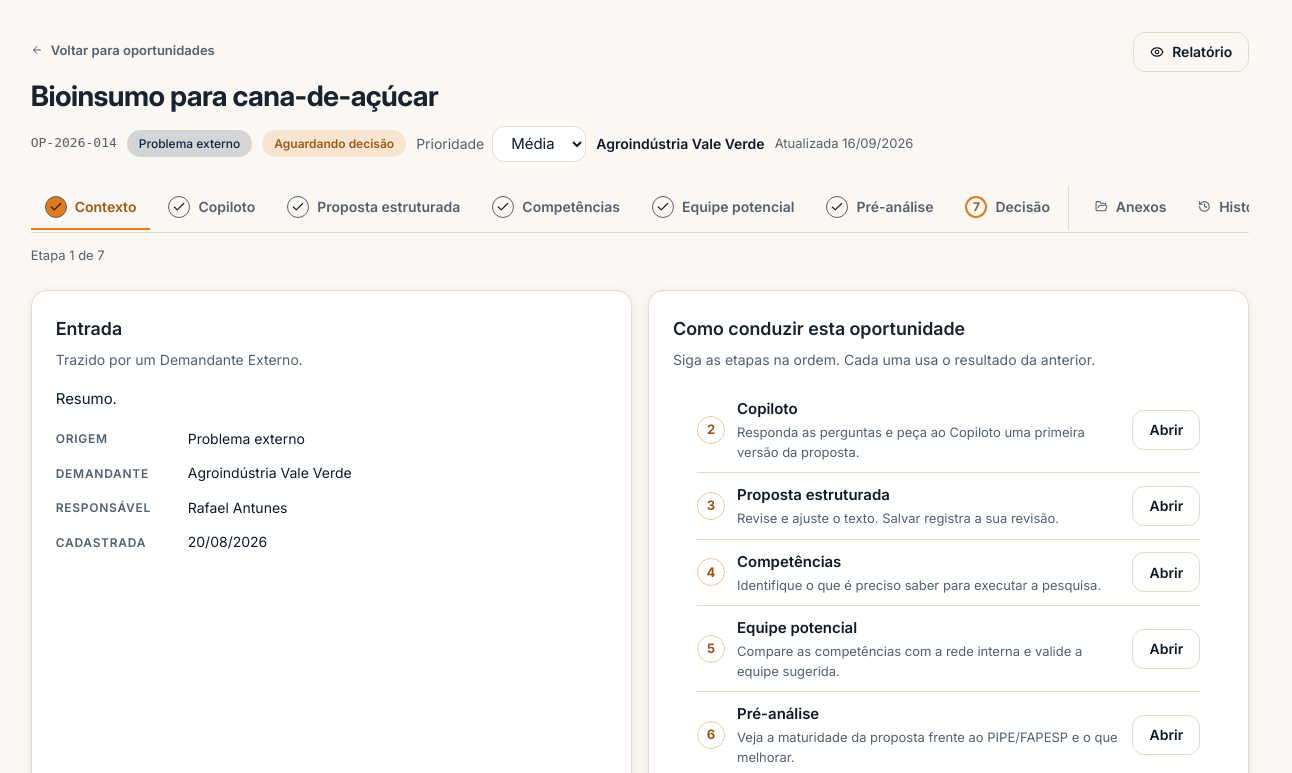
Scenario: OportunidadePage — rodada do Copiloto › trava a troca de etapa enquanto a IA trabalha
The image size is (1292, 773).
Click the button "Copiloto" at (212, 208), box [154, 186, 269, 230]
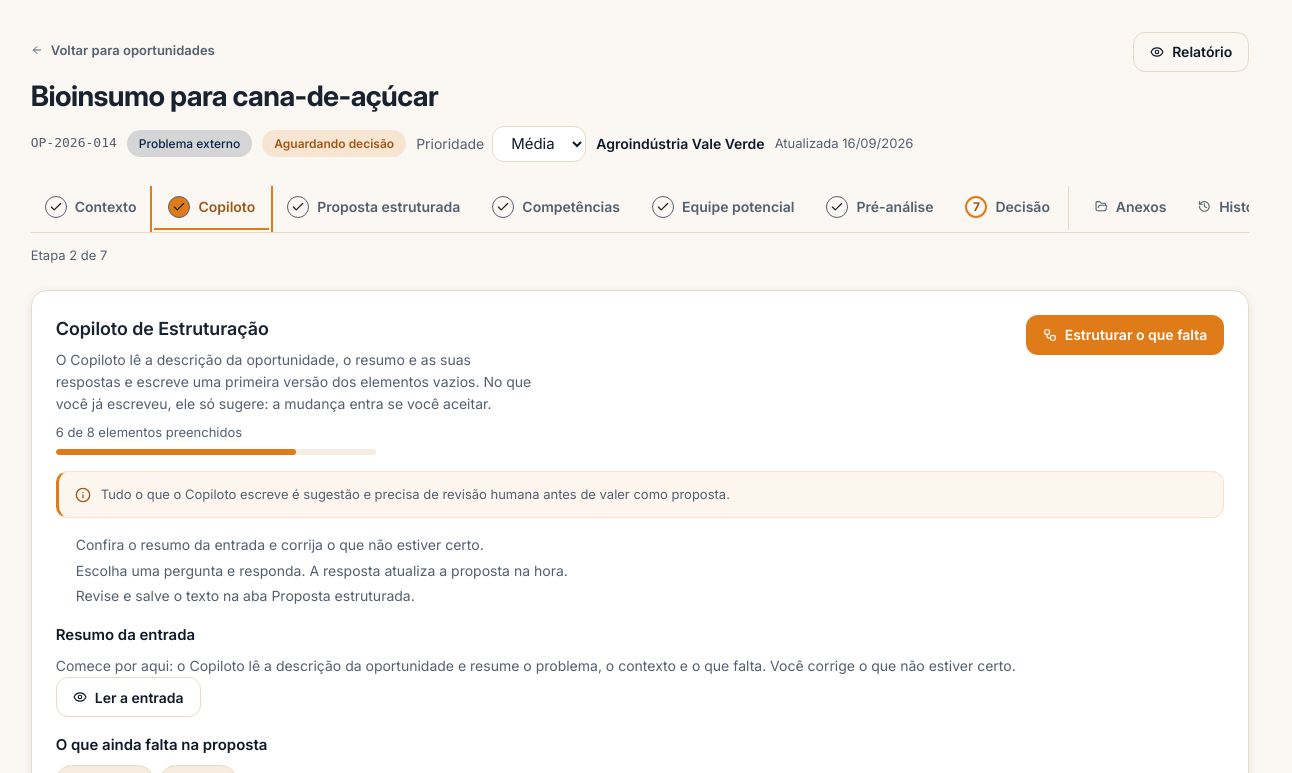
Click the button "Estruturar o que falta" at (1125, 335), box [1026, 315, 1224, 355]
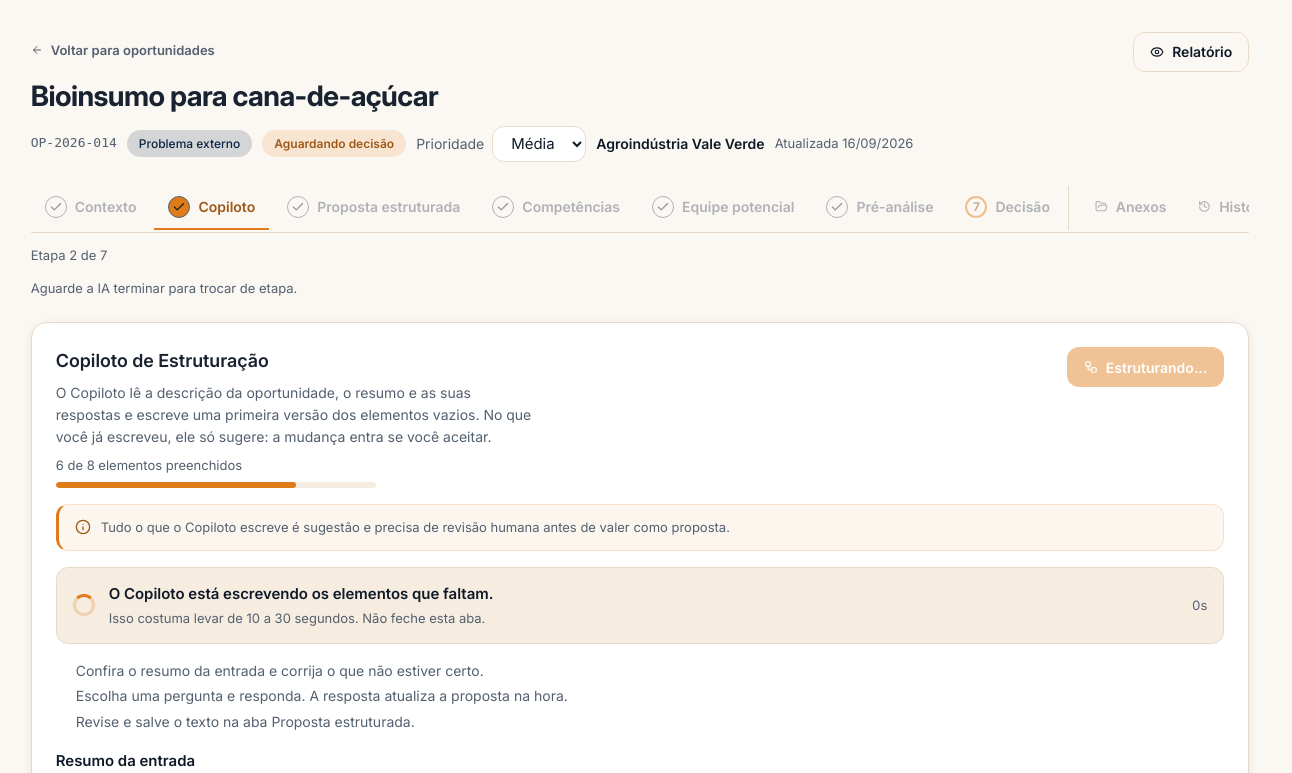
Check: the text "Aguarde a IA terminar para trocar de etapa." is shown, box [31, 280, 297, 296]
Check: the button "7 Decisão" is disabled, box [952, 186, 1064, 230]
